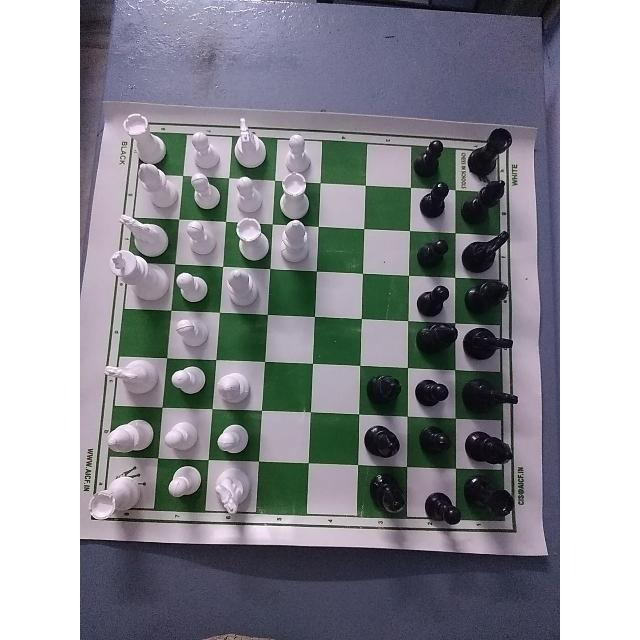black-bishop: (463, 178, 515, 228), (364, 471, 408, 527), (363, 415, 409, 468), (471, 425, 519, 467), (366, 362, 404, 412), (464, 278, 512, 317), (416, 318, 457, 360)
black-knight: (470, 369, 517, 419), (464, 231, 512, 277), (466, 321, 514, 362)
black-pawn: (416, 485, 460, 529), (413, 368, 454, 414), (410, 183, 453, 225), (415, 231, 455, 273), (415, 426, 453, 470), (409, 134, 446, 179), (414, 277, 454, 316)
black-rook: (468, 471, 517, 529), (470, 127, 514, 175)
white-bishop: (124, 163, 179, 209), (104, 415, 154, 458), (276, 218, 312, 268), (224, 267, 256, 311), (212, 368, 251, 402)
white-king: (108, 249, 165, 311)
white-knight: (102, 352, 160, 402), (213, 464, 253, 524), (112, 209, 169, 249), (233, 119, 267, 167)
white-pawn: (210, 412, 250, 460), (178, 217, 223, 259), (165, 461, 205, 508), (179, 171, 220, 214), (175, 313, 215, 357), (282, 125, 321, 170), (231, 169, 271, 211), (172, 356, 206, 402), (190, 123, 222, 171), (162, 414, 201, 453), (174, 263, 209, 305)
white-rook: (91, 469, 142, 531), (121, 110, 171, 162), (235, 217, 274, 267), (280, 172, 314, 216)
